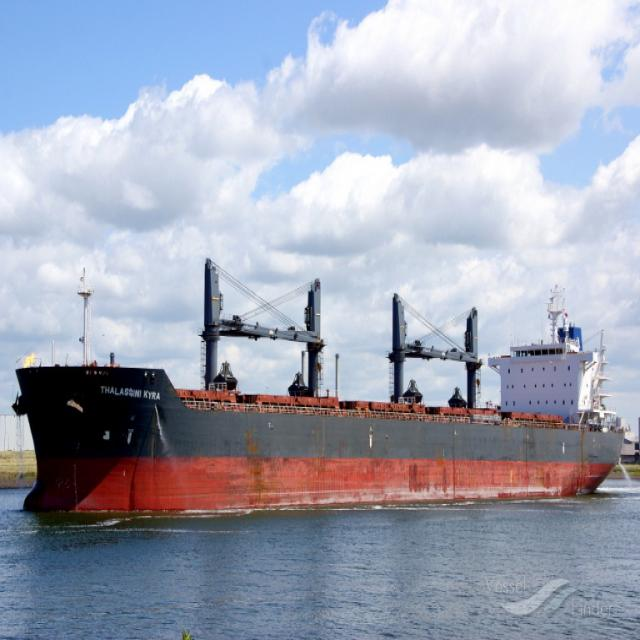OCR: (89, 377, 167, 404)
